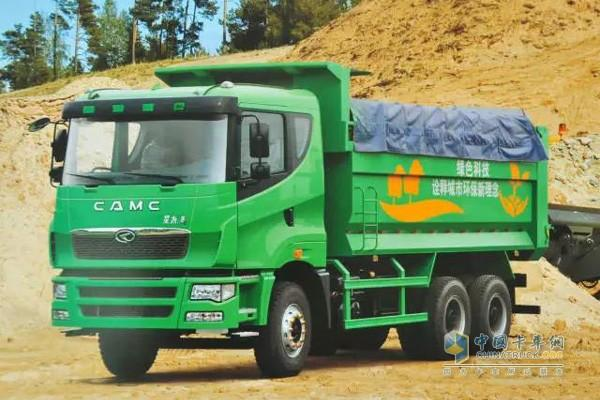truck: (34, 38, 553, 382)
